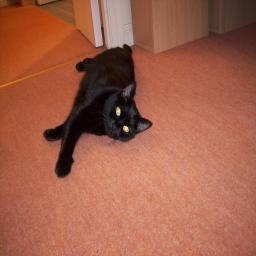catnose: (111, 119, 120, 133)
